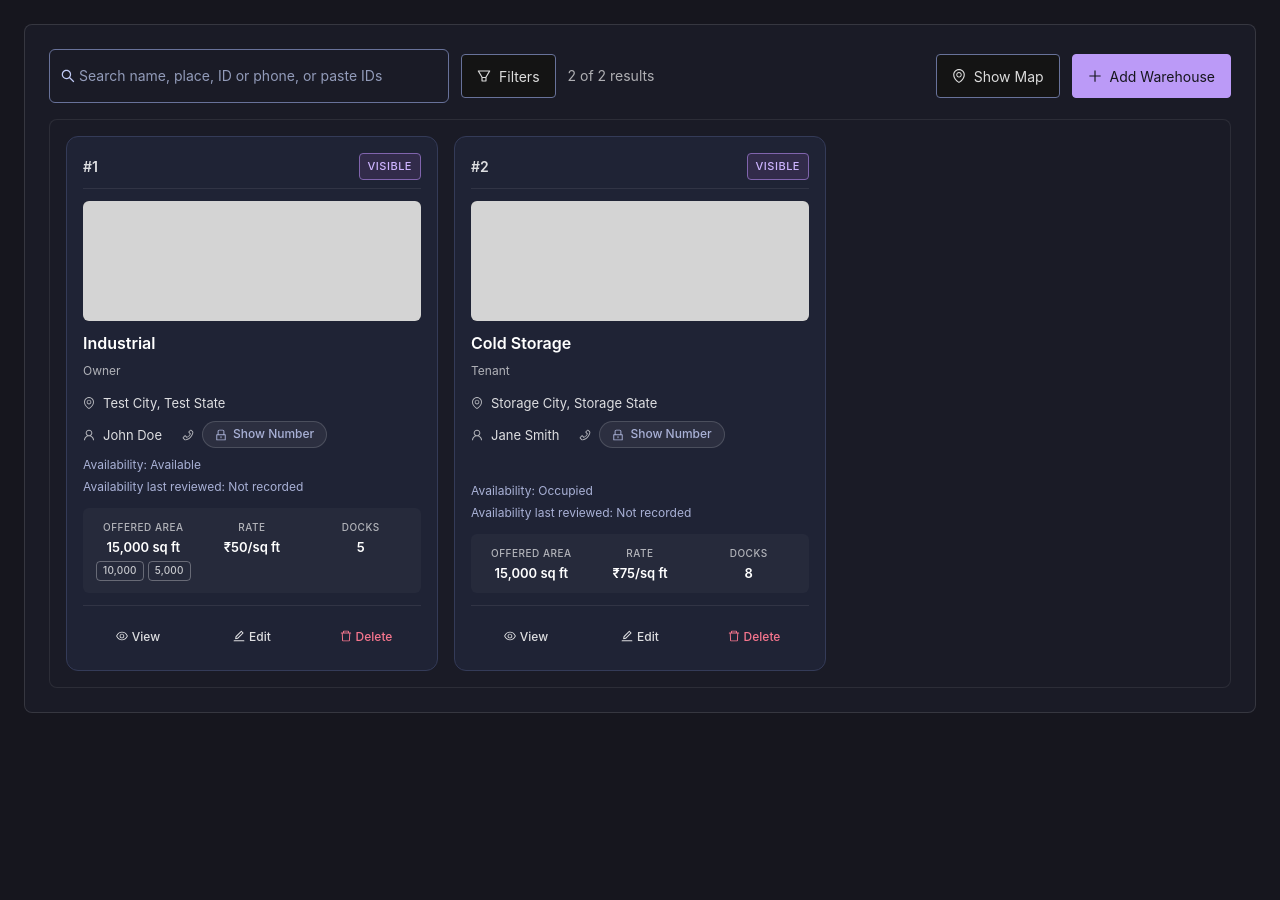
Dashboard current list contract › keeps existing cards visible when a refresh fails
The image size is (1280, 900).
Type "PEB" into the field named "Search warehouses" at [250, 76], box [79,54,421,98]
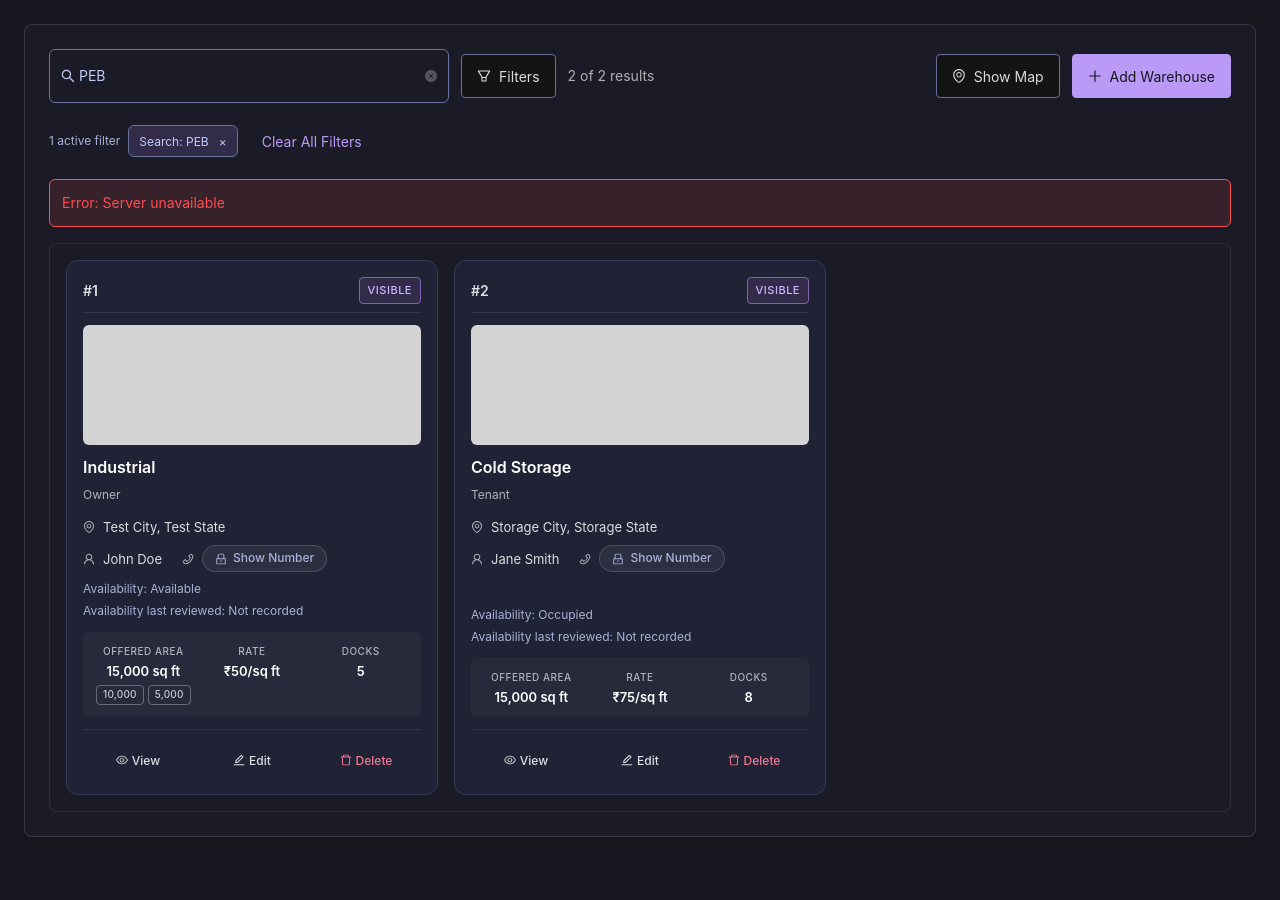
Expected: the button "#1" is shown, [83,280,98,302]
Now the text "Error: Server unavailable" is shown, box [49,179,1231,227]
